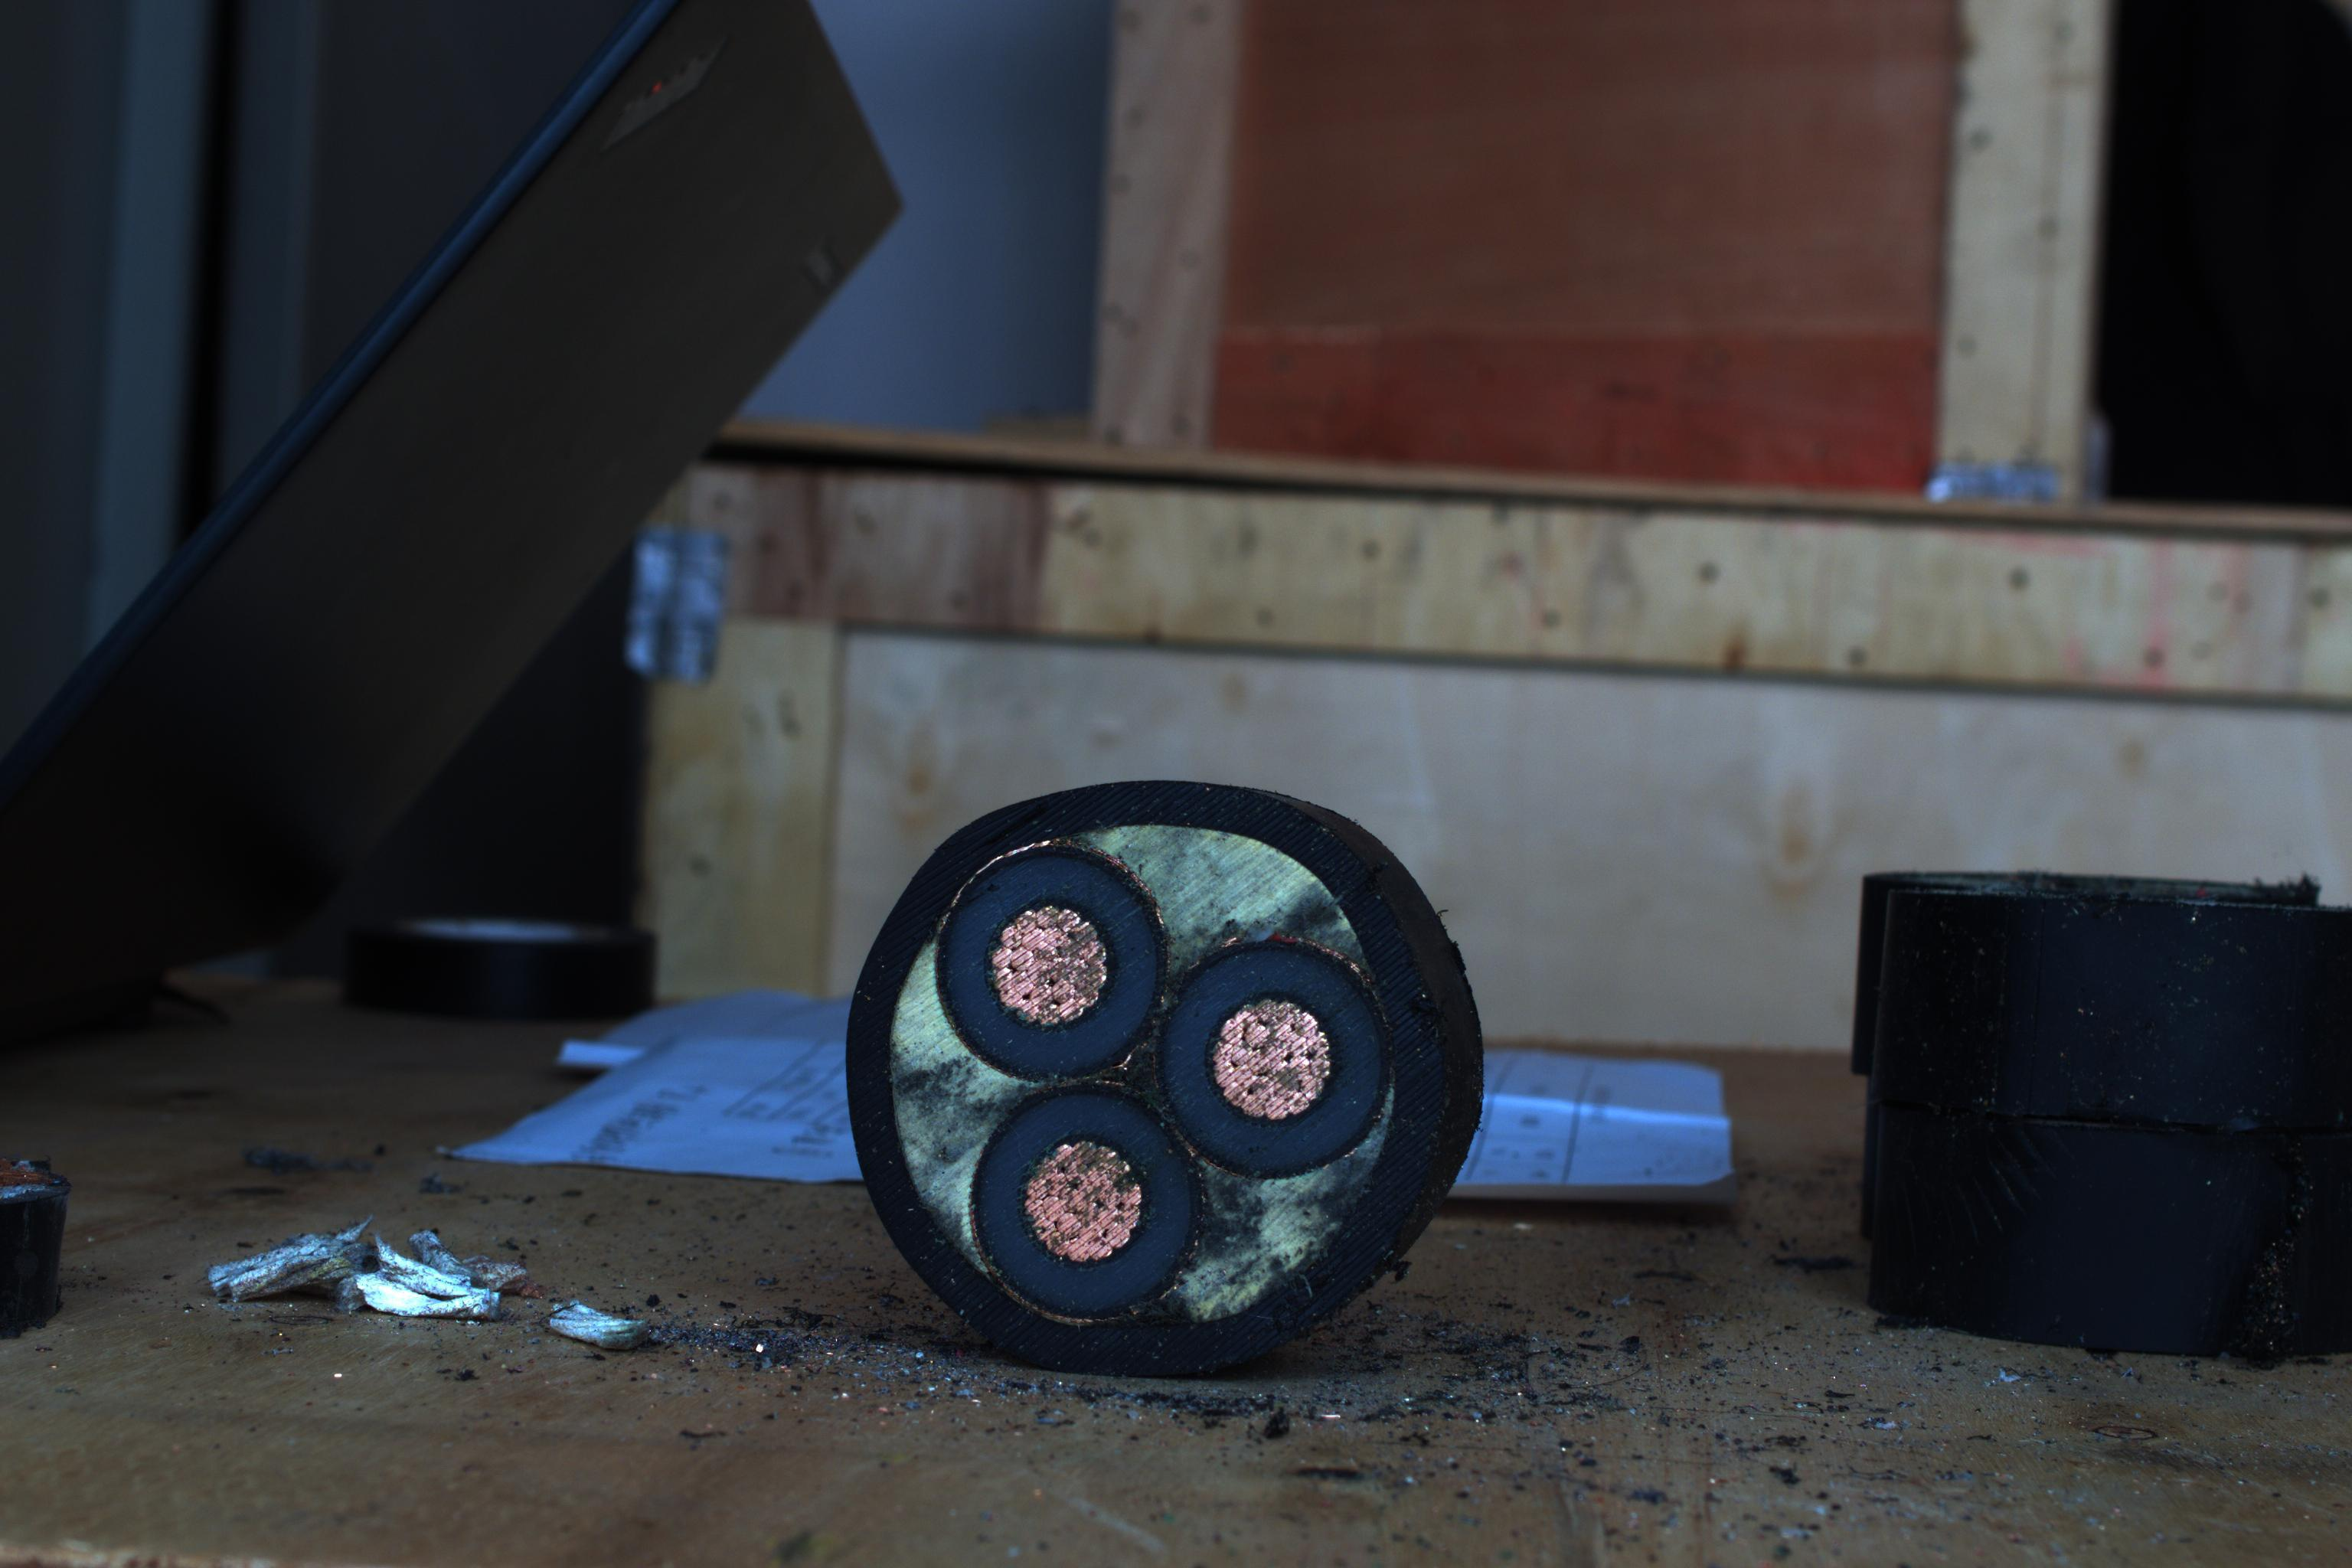ZA_YJV_8.7_10kV_3x120: (840, 780, 1445, 1354)
